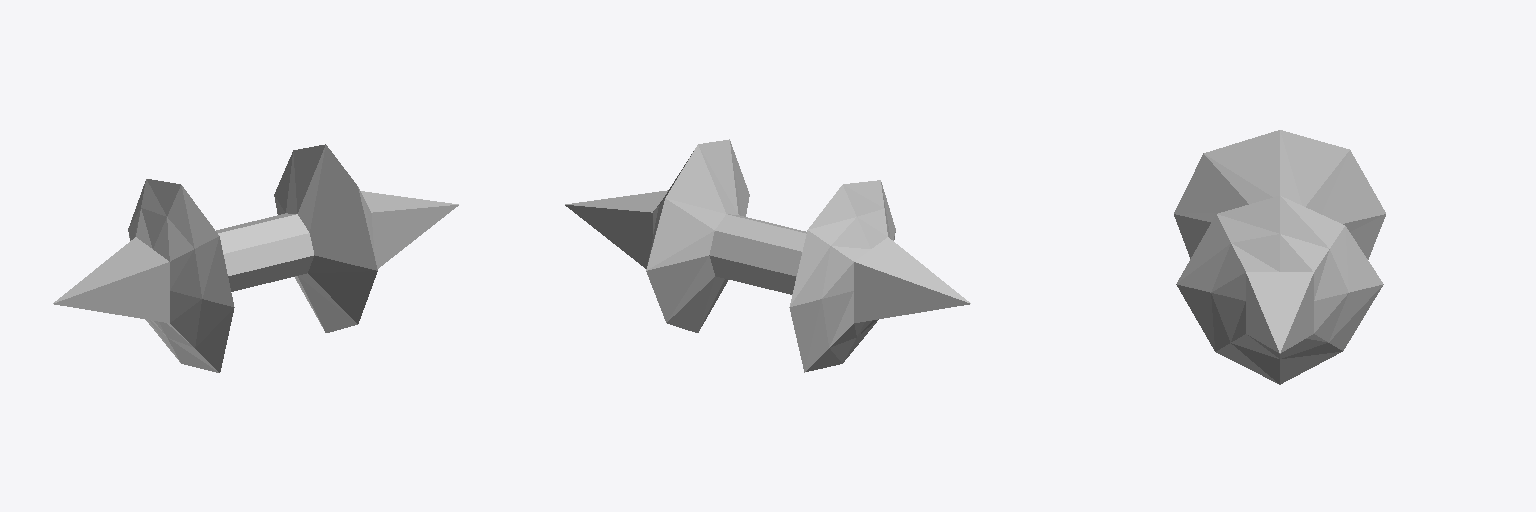
File: enemy_weapon.obj
3 views of the same model, side by side, from view 1: azimuth 30°, elevation 25°; view 2: azimuth 150°, elevation 25°; view 3: azimuth 270°, elevation 25° (orthographic).
Visible parts, largest first — view 1: 立方体.001; view 2: 立方体.001; view 3: 立方体.001.
Part boxes in pixels (x1,y1,x2,y2): 立方体.001: (53,144,458,372); 立方体.001: (565,139,970,372); 立方体.001: (1174,130,1385,384).
Size of the model in its own units: 5.95 by 2.64 by 2.69.